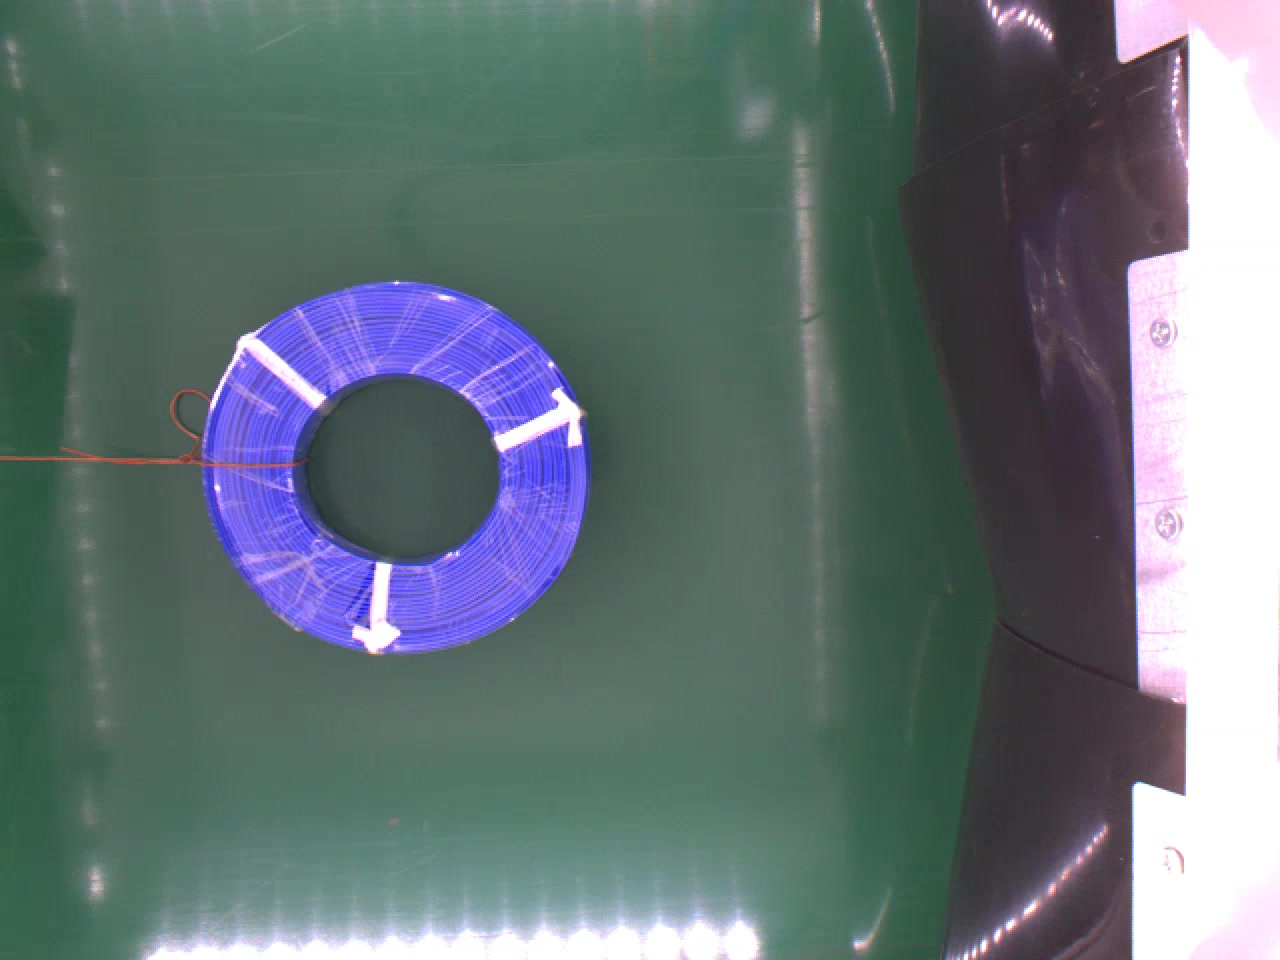blue: (200, 283, 592, 661)
